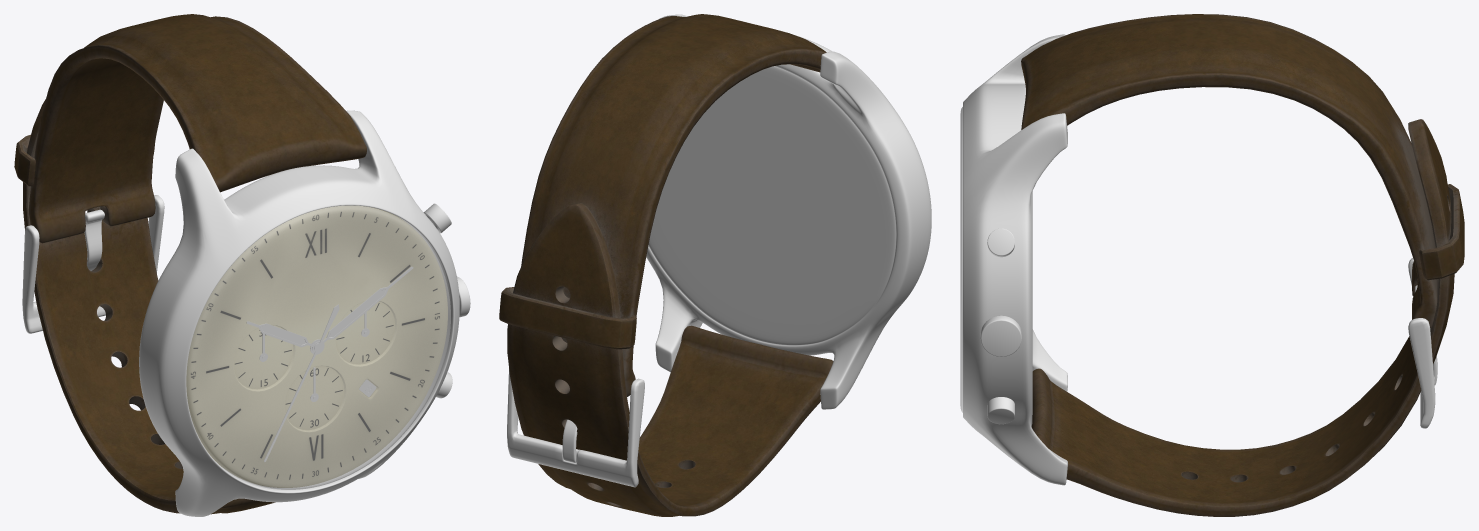
Rendered from handwatch.glb.
3 renders of one model, left to right at view 1: azimuth 30°, elevation 25°; view 2: azimuth 150°, elevation 25°; view 3: azimuth 270°, elevation 25°, orthographic. The views are drawn at different scales.
Visible parts, largest first — view 1: Cylinder.004, Cylinder.006, Cube.005, Cylinder, Cube.015, Cube.013, Cube.014, Circle.001, Circle.002, Circle; view 2: Cylinder, Cube.015, Cube.005, Cube.013, Cube.014; view 3: Cube.015, Cube.005, Cylinder, Cube.013, Cylinder.001, Cylinder.004, Cylinder.003, Cylinder.002.
Part boxes in pixels (x1=…): Cylinder.004: x1=186, y1=205, x2=450, y2=489; Cylinder.006: x1=186, y1=205, x2=447, y2=487; Cube.005: x1=28, y1=14, x2=366, y2=243; Cylinder: x1=139, y1=110, x2=459, y2=516; Cube.015: x1=14, y1=99, x2=275, y2=514; Cube.013: x1=22, y1=195, x2=164, y2=333; Cube.014: x1=84, y1=209, x2=104, y2=270; Circle.001: x1=310, y1=266, x2=413, y2=354; Circle.002: x1=246, y1=321, x2=323, y2=353; Circle: x1=264, y1=304, x2=339, y2=461; Cylinder: x1=646, y1=14, x2=931, y2=409; Cube.015: x1=499, y1=203, x2=833, y2=516; Cube.005: x1=521, y1=14, x2=826, y2=396; Cube.013: x1=507, y1=369, x2=644, y2=487; Cube.014: x1=562, y1=419, x2=577, y2=462; Cube.015: x1=1031, y1=119, x2=1464, y2=516; Cube.005: x1=1021, y1=14, x2=1437, y2=329; Cylinder: x1=963, y1=34, x2=1067, y2=485; Cube.013: x1=1408, y1=258, x2=1435, y2=428; Cylinder.001: x1=980, y1=315, x2=1021, y2=356; Cylinder.004: x1=960, y1=107, x2=962, y2=412; Cylinder.003: x1=987, y1=397, x2=1014, y2=424; Cylinder.002: x1=987, y1=228, x2=1014, y2=257.
Size of the model in its own units: 2.79 by 3.93 by 3.89.
5 materials, 2 textured.
